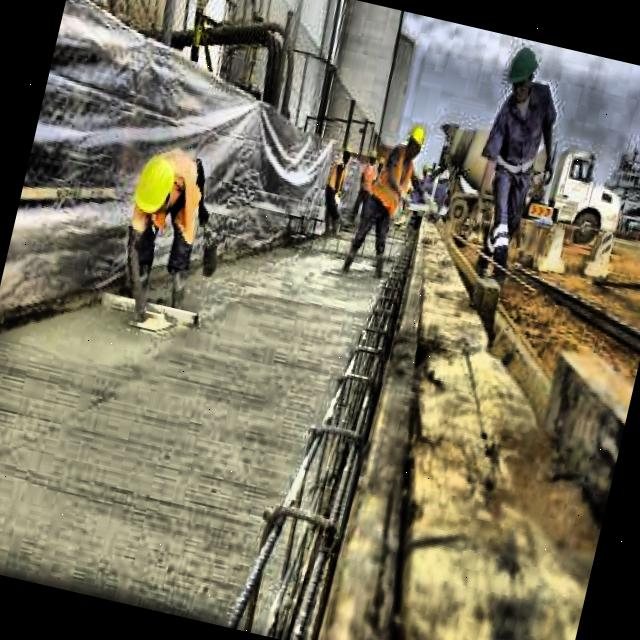helmet: (123, 145, 188, 235), (501, 41, 546, 111), (402, 122, 428, 164)
